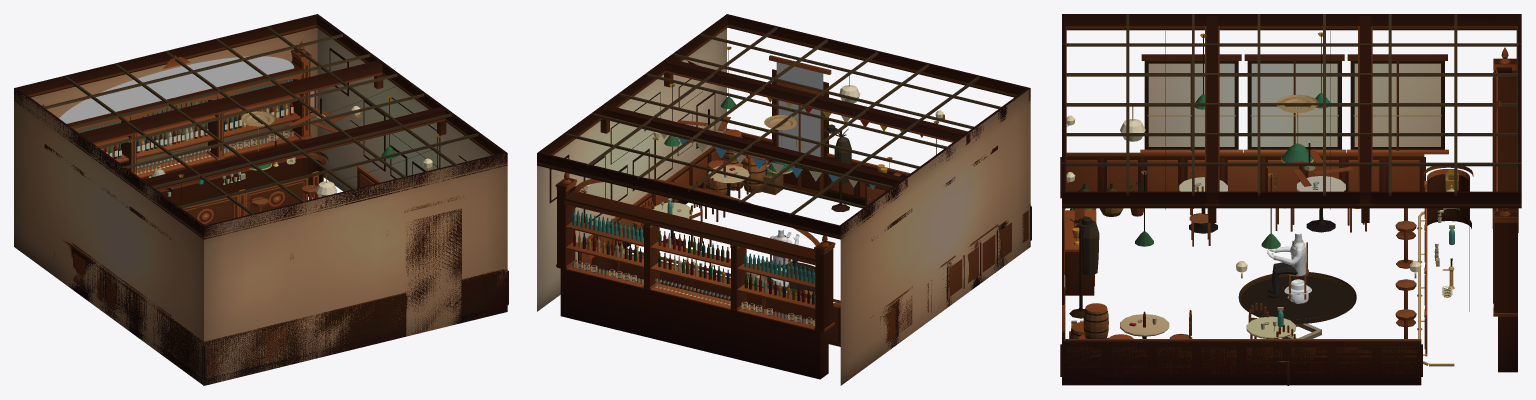
Rendered from boliche.glb.
3 views of the same model, side by side, from view 1: azimuth 30°, elevation 25°; view 2: azimuth 150°, elevation 25°; view 3: azimuth 270°, elevation 25° (orthographic). The views are drawn at different scales.
Visible parts, largest first — view 1: boliche; view 2: boliche; view 3: boliche, mesa, cuerpo, cabeza.
Boxes of the visible parts, left/top/right/bottom form: boliche: left=14, top=14, right=508, bottom=385; boliche: left=537, top=14, right=1031, bottom=385; boliche: left=1060, top=14, right=1521, bottom=385; mesa: left=1238, top=272, right=1356, bottom=338; cuerpo: left=1267, top=233, right=1306, bottom=298; cabeza: left=1284, top=279, right=1311, bottom=303.
Size of the model in its own units: 7.31 by 4.38 by 7.83.
